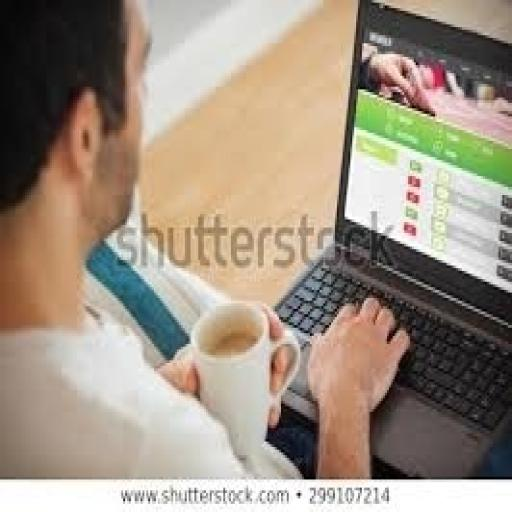using_laptop: (264, 0, 510, 477)
